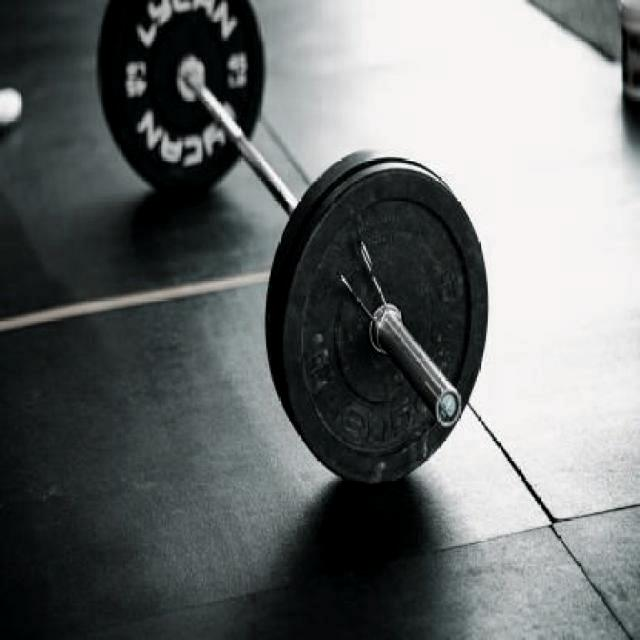barbell: (253, 141, 490, 495)
